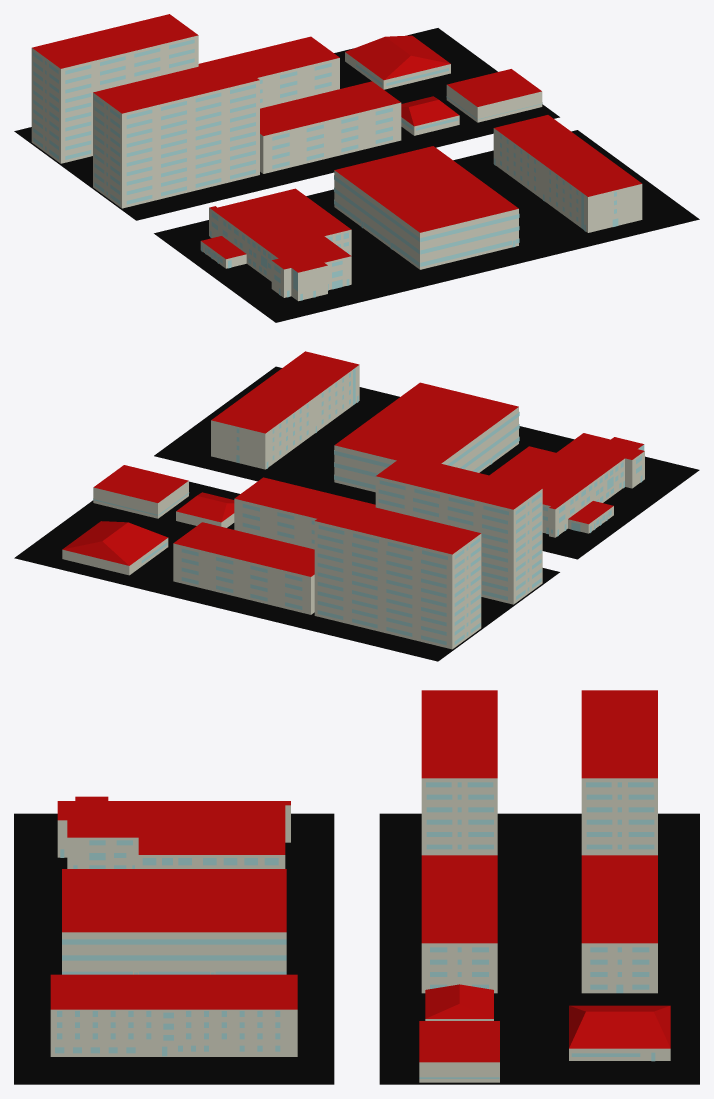
3 renders of one model, top to bottom at view 1: azimuth 30°, elevation 25°; view 2: azimuth 150°, elevation 25°; view 3: azimuth 270°, elevation 25°, orthographic. The views are drawn at different scales.
Visible parts, largest first — view 1: Walls, Roofs, Ground, Windows; view 2: Walls, Roofs, Ground, Windows; view 3: Ground, Roofs, Walls, Windows.
Part boxes in pixels (bbox=[...]): Walls: bbox=[31, 35, 642, 301]; Roofs: bbox=[32, 14, 641, 272]; Ground: bbox=[14, 28, 699, 322]; Windows: bbox=[33, 39, 618, 300]; Walls: bbox=[62, 365, 644, 649]; Roofs: bbox=[62, 351, 644, 576]; Ground: bbox=[14, 366, 699, 661]; Windows: bbox=[93, 368, 644, 645]; Ground: bbox=[14, 813, 699, 1084]; Roofs: bbox=[50, 690, 670, 1062]; Walls: bbox=[50, 778, 670, 1082]; Windows: bbox=[55, 782, 655, 1078].
Size of the model in its own units: 142 by 30.48 by 152.
